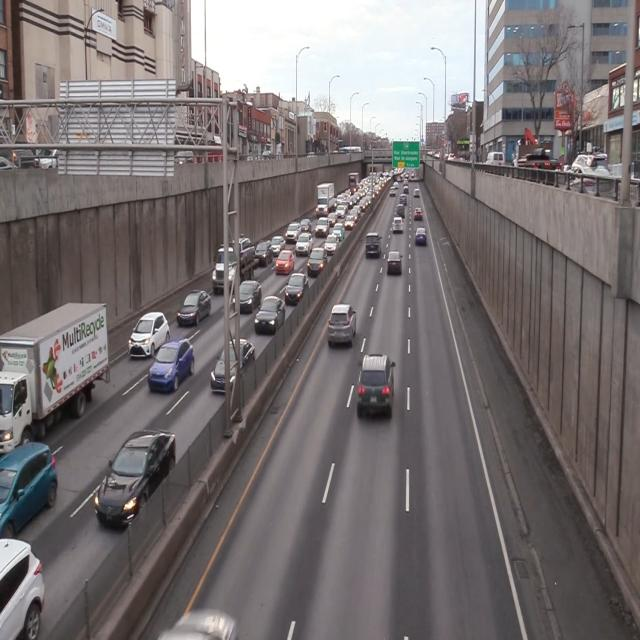Car: (0, 308, 106, 454), (95, 432, 176, 530), (1, 443, 57, 541), (356, 352, 396, 422), (147, 337, 195, 394), (212, 239, 256, 292), (211, 344, 254, 396), (128, 310, 170, 360), (177, 290, 211, 330), (326, 304, 356, 348), (254, 297, 285, 338), (234, 280, 260, 315), (286, 274, 307, 304), (364, 231, 384, 262), (307, 247, 327, 276), (275, 250, 293, 276), (386, 248, 401, 279), (415, 227, 428, 245), (394, 218, 404, 234)
